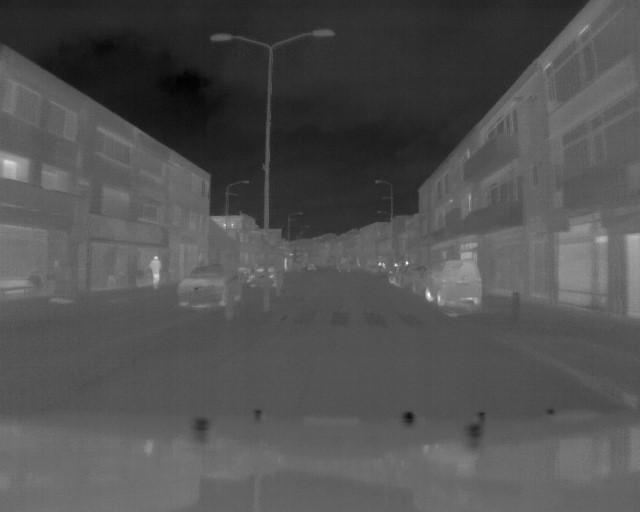car: (173, 259, 247, 311), (423, 258, 483, 310)
person: (147, 254, 163, 293)
